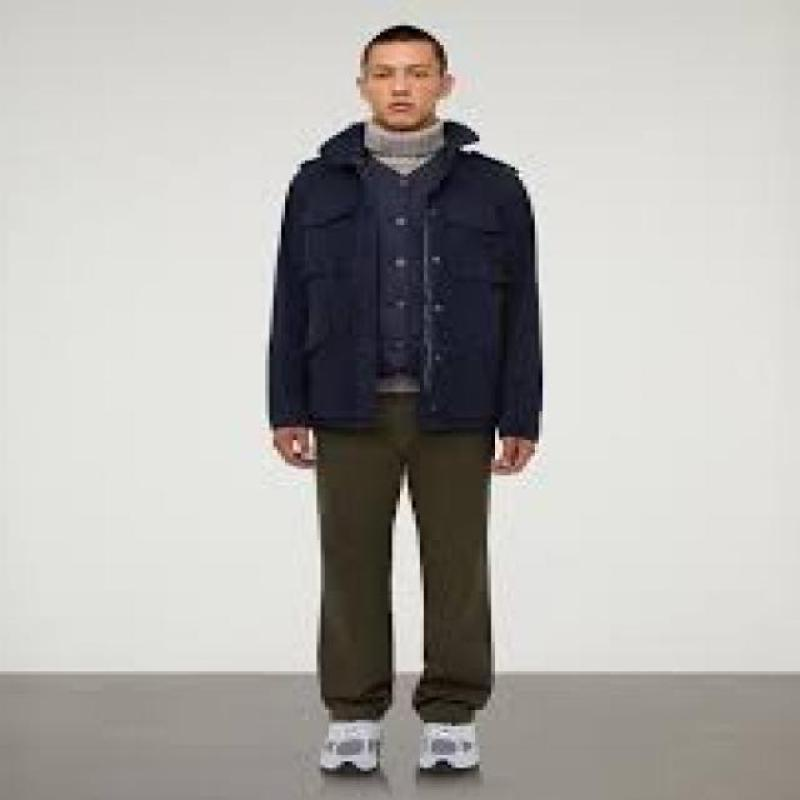coat: (266, 118, 552, 448)
trousers: (306, 391, 498, 728)
